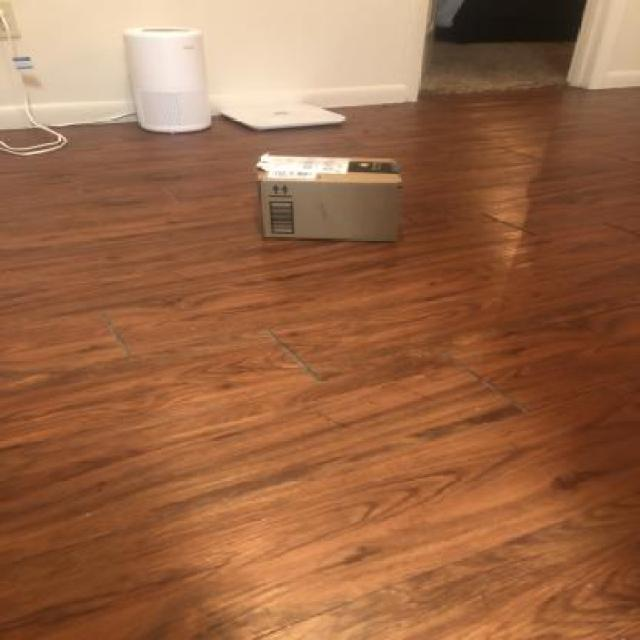cardboxes: (250, 154, 410, 248)
